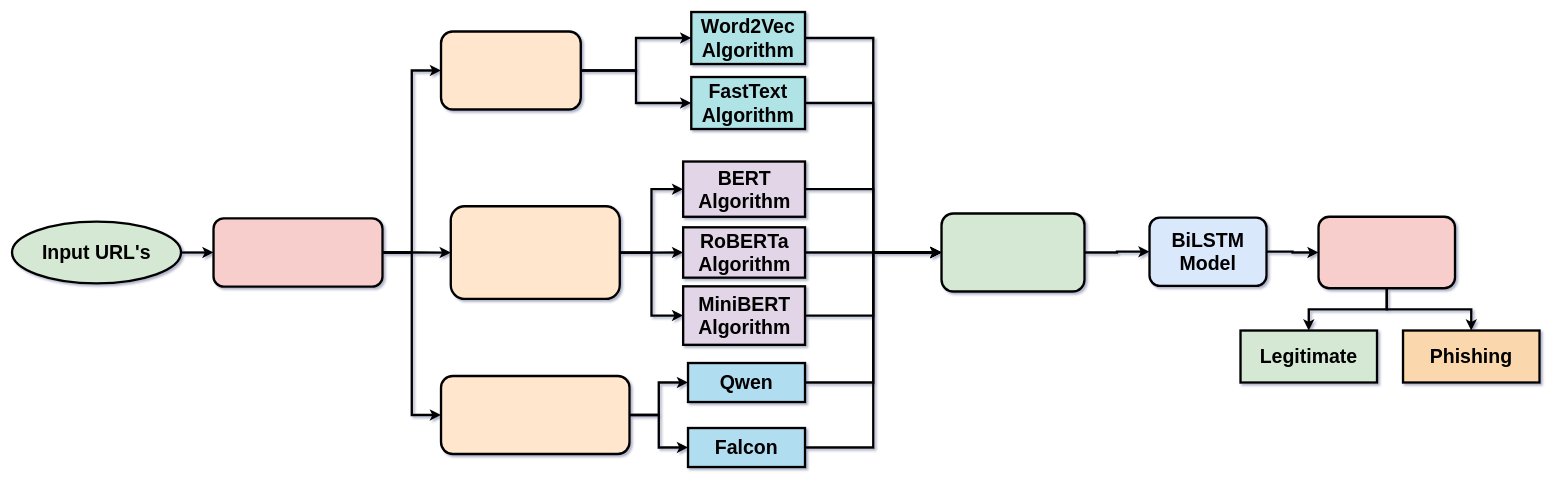
Some shapes in this 1556 by 484 pixel diagram are drawn without their labels. The shapes that lost their labels are listed below. From the top down, each one's centre as x and y in pixels, then its label:
[511,70]: Word Embedding Techniques
[297,252]: Preprocessing and Tokenization
[535,252]: Transformer based Word Embedding Techniques
[1012,252]: Fusion Attention Technique
[1386,252]: Output
[535,415]: LLM's based Word Embedding Techniques
